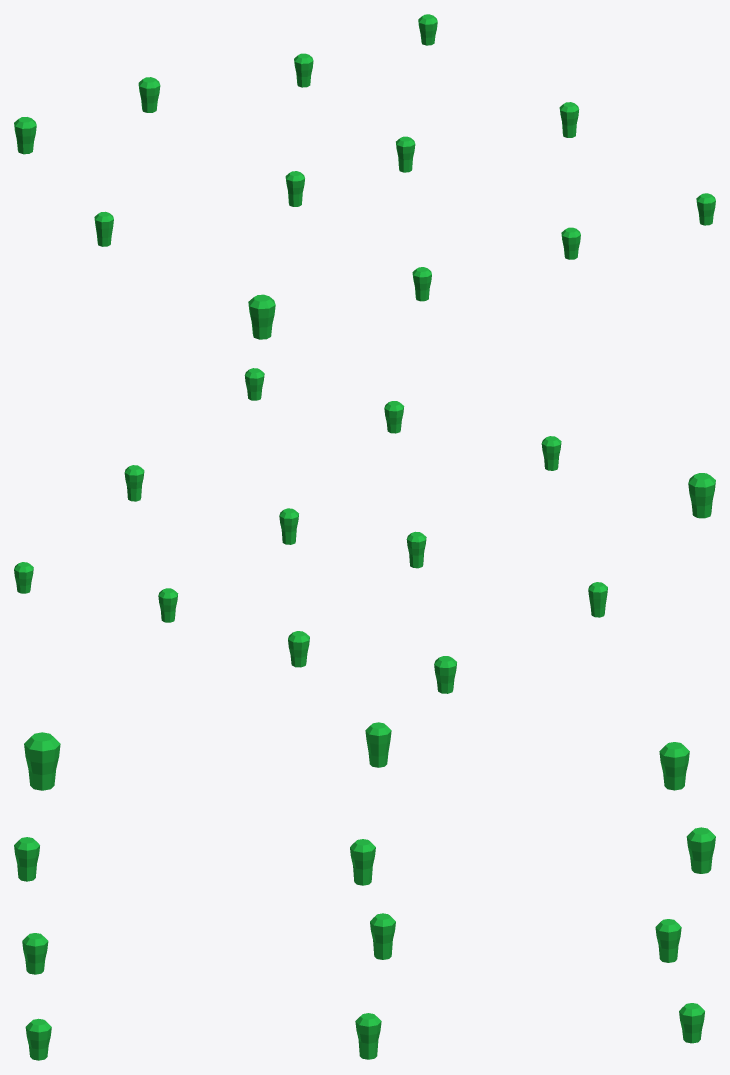
Rendered from Carot_Step1.fbx.
3 renders of one model, top to bottom at view 1: azimuth 30°, elevation 25°; view 2: azimuth 150°, elevation 25°; view 3: azimuth 270°, elevation 25°, orthographic. The views are drawn at different scales.
Visible parts, largest first — view 1: Save_Karotte_0.001; view 2: Save_Karotte_0.001; view 3: Save_Karotte_0.001.
Boxes of the visible parts, box(x1,y1,x2,y2) form: Save_Karotte_0.001: box(14, 14, 715, 339); Save_Karotte_0.001: box(14, 368, 715, 693); Save_Karotte_0.001: box(14, 722, 715, 1060).
Size of the model in its own units: 75.33 by 5.76 by 78.08.
